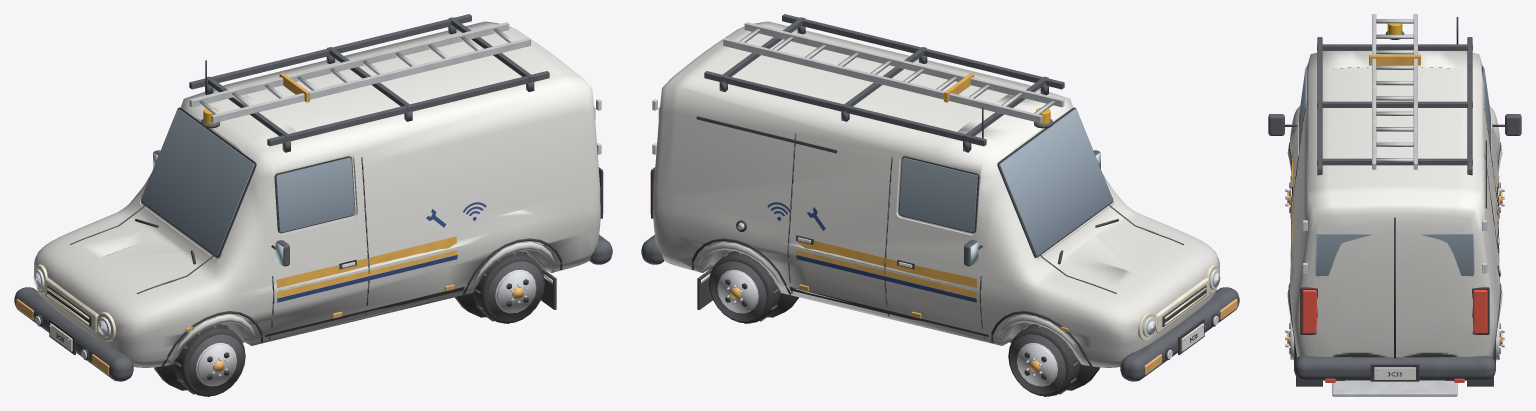
File: Maquininha_TelecomVan.fbx
3 renders of one model, left to right at view 1: azimuth 30°, elevation 25°; view 2: azimuth 150°, elevation 25°; view 3: azimuth 270°, elevation 25°, orthographic. The views are drawn at different scales.
Visible parts, largest first — view 1: Maquininha_TelecomVan; view 2: Maquininha_TelecomVan; view 3: Maquininha_TelecomVan.
Part boxes in pixels (x1=…): Maquininha_TelecomVan: x1=14, y1=14, x2=612, y2=396; Maquininha_TelecomVan: x1=641, y1=14, x2=1239, y2=396; Maquininha_TelecomVan: x1=1268, y1=14, x2=1521, y2=396.
Bounding box in the file's own units: 5.57 × 2.69 × 2.43.
Materials: 1 (1 with a texture image).
